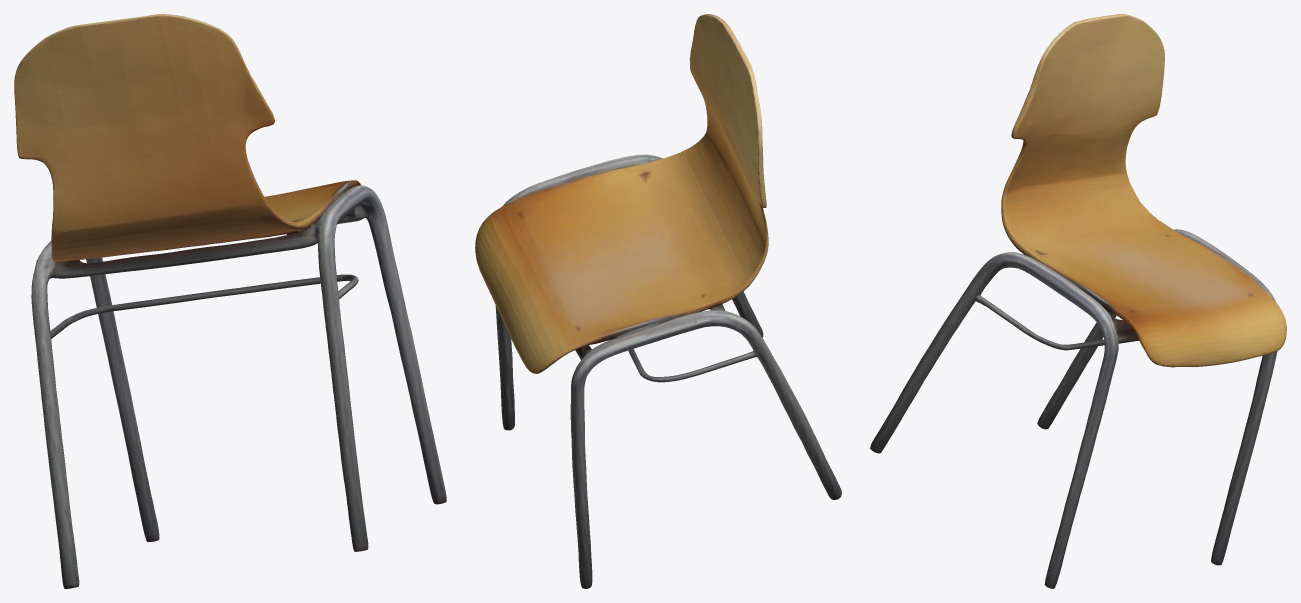
File: light-colored_wooden_chair_at_middle_row_right_table_(left)_000.glb
3 views of the same model, side by side, from view 1: azimuth 30°, elevation 25°; view 2: azimuth 150°, elevation 25°; view 3: azimuth 270°, elevation 25° (orthographic). The views are drawn at different scales.
Parts seen in each view (by area): view 1: light-colored_wooden_chair_at_middle_row_right_table_(left)_; view 2: light-colored_wooden_chair_at_middle_row_right_table_(left)_; view 3: light-colored_wooden_chair_at_middle_row_right_table_(left)_.
Part boxes in pixels (x1,y1,x2,y2): light-colored_wooden_chair_at_middle_row_right_table_(left)_: (14, 14, 446, 588); light-colored_wooden_chair_at_middle_row_right_table_(left)_: (475, 14, 841, 588); light-colored_wooden_chair_at_middle_row_right_table_(left)_: (870, 14, 1286, 588).
Size of the model in its own units: 0.379 by 0.5714 by 0.4227.
Materials: 1 (1 with a texture image).
